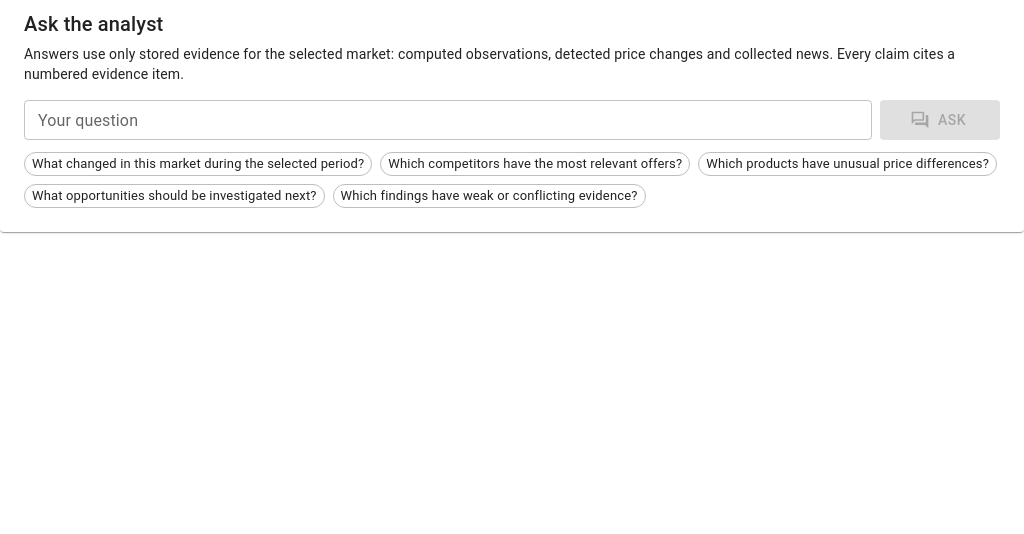
AskAnalyst › shows relevant evidence with sources when no provider is configured
The image size is (1024, 534).
Type "What changed?" into the field labelled "Your question" at (448, 120), box [24,100,872,140]
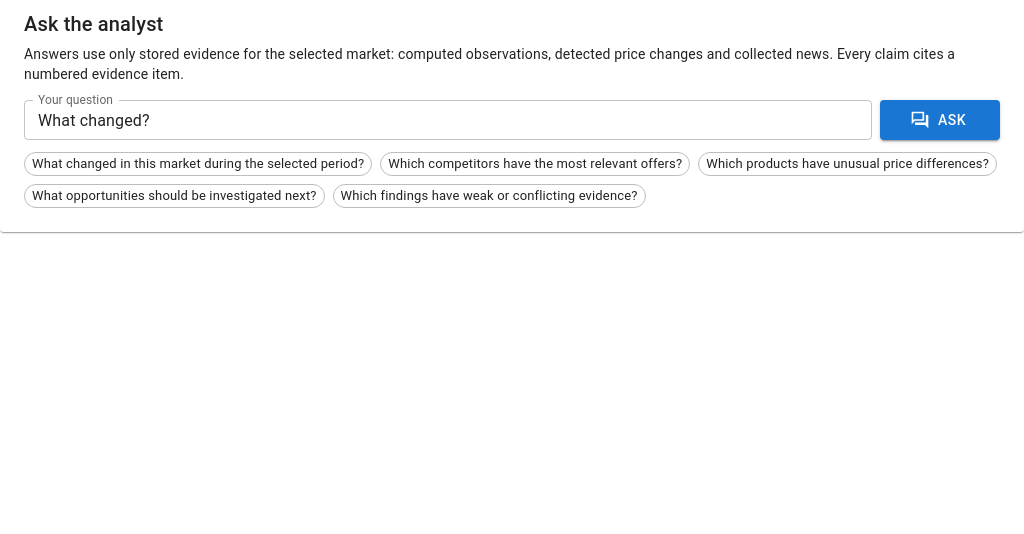
Click the button "Ask" at (940, 120), box [880,100,1000,140]
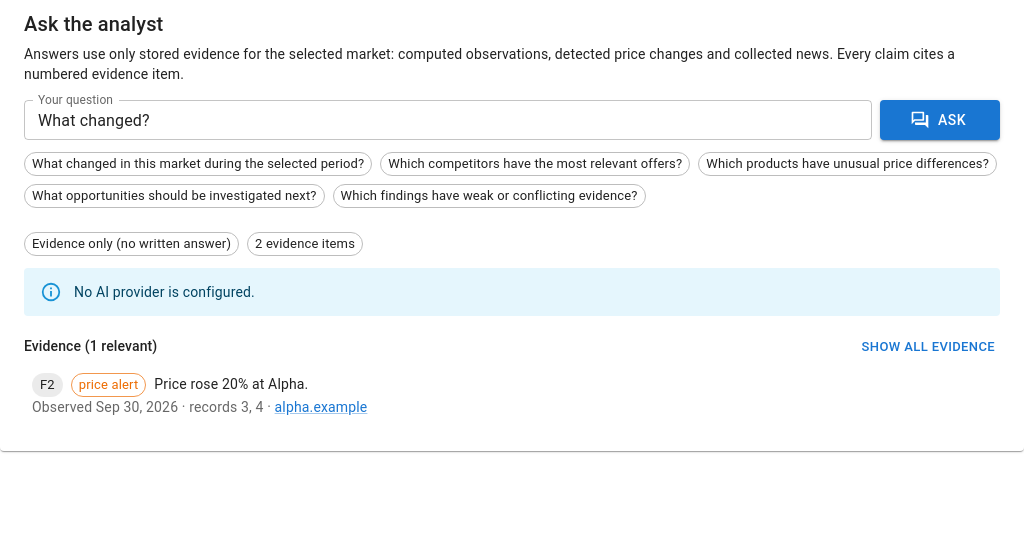
Expected: the text "Two merchants were priced." is not shown
Expected: the text "Price rose 20% at Alpha." is shown, [154,374,308,394]
Expected: the text "Evidence only (no written answer)" is shown, [25,234,238,254]
Click the button "Show all evidence" at (928, 347), box [857,332,1000,363]
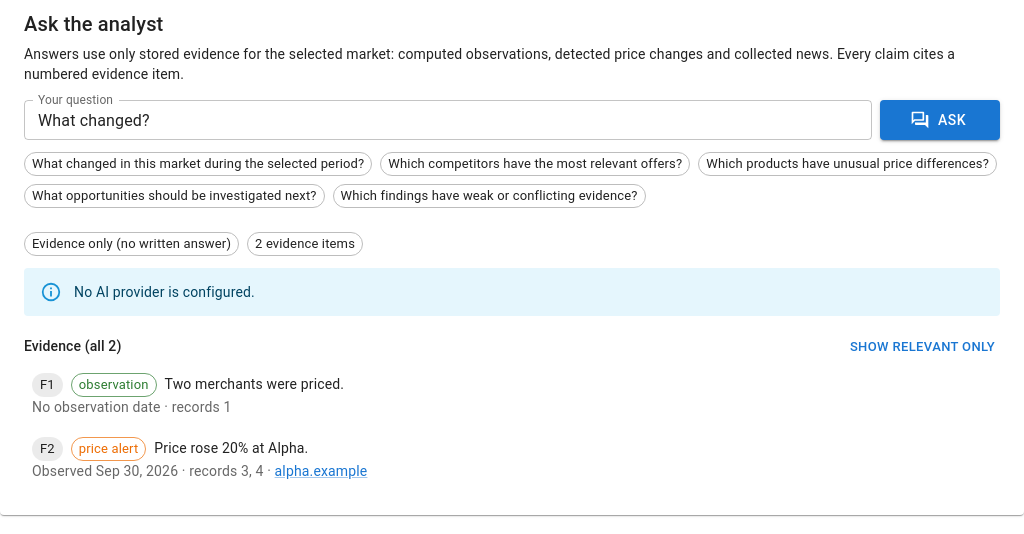
Expected: the text "Two merchants were priced." is shown, [165,374,344,394]
